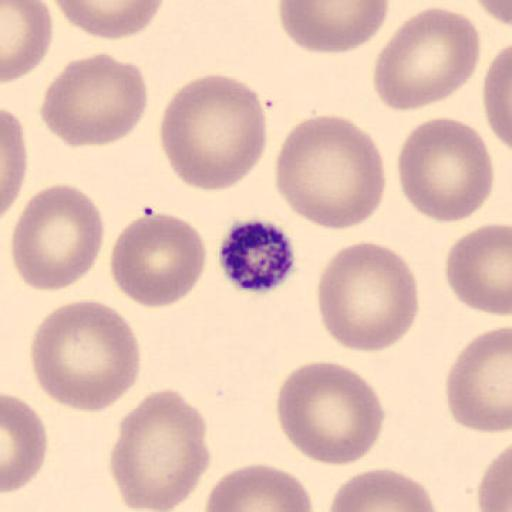Platelet: (216, 215, 299, 296)
RBC: (28, 296, 144, 413), (274, 114, 388, 232), (158, 72, 269, 192), (108, 386, 212, 512), (274, 360, 387, 467), (316, 240, 420, 354), (372, 6, 481, 112), (395, 116, 495, 224), (39, 51, 149, 149), (11, 181, 106, 294), (109, 210, 207, 309), (445, 324, 512, 436), (445, 222, 512, 318), (277, 0, 390, 55), (202, 462, 313, 512), (327, 467, 440, 512), (2, 392, 48, 494), (52, 0, 166, 41), (1, 0, 54, 83), (482, 40, 512, 154), (0, 105, 28, 221), (476, 443, 512, 512), (473, 1, 511, 26)
